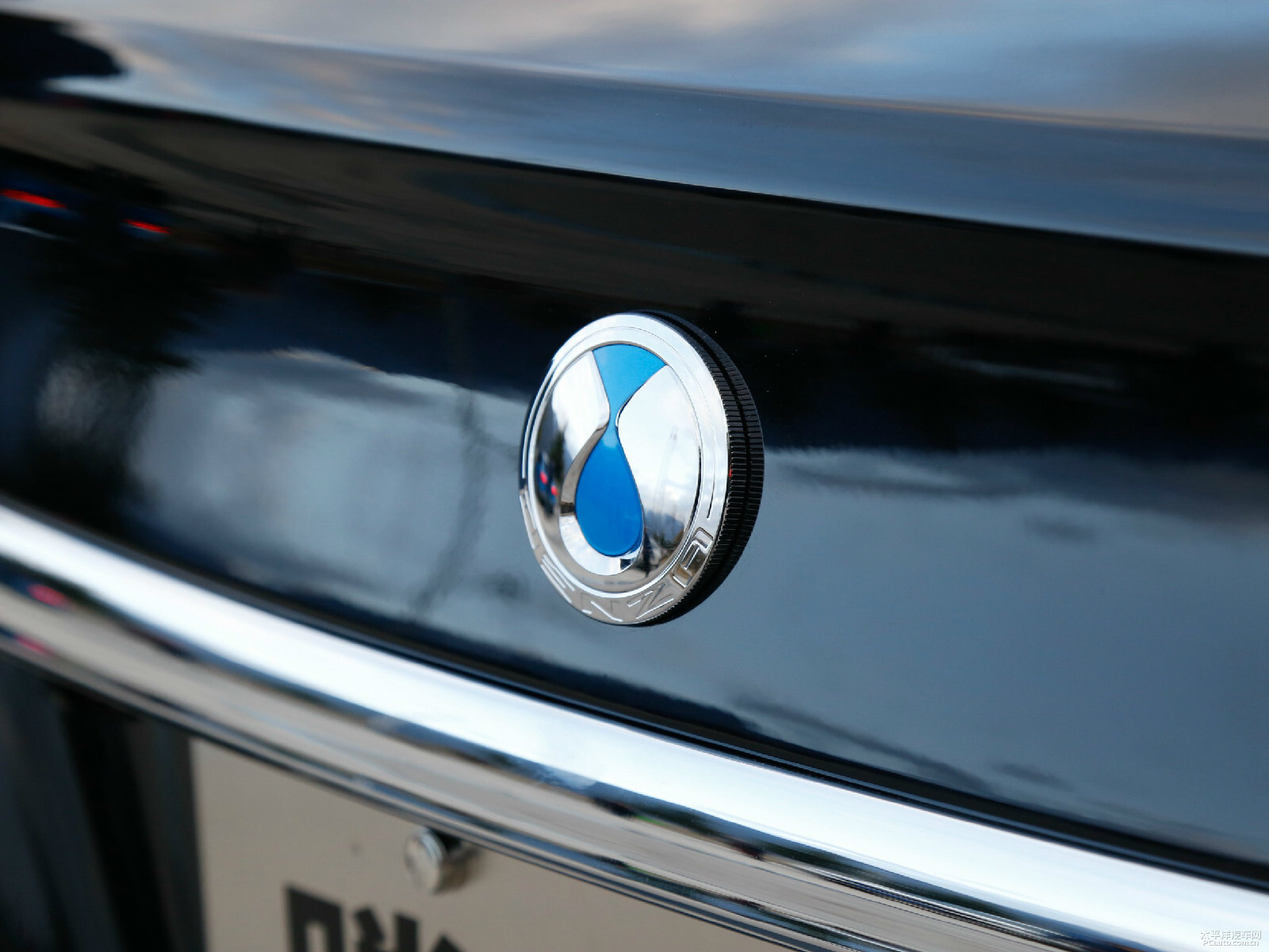DENZA: (519, 315, 728, 624)
